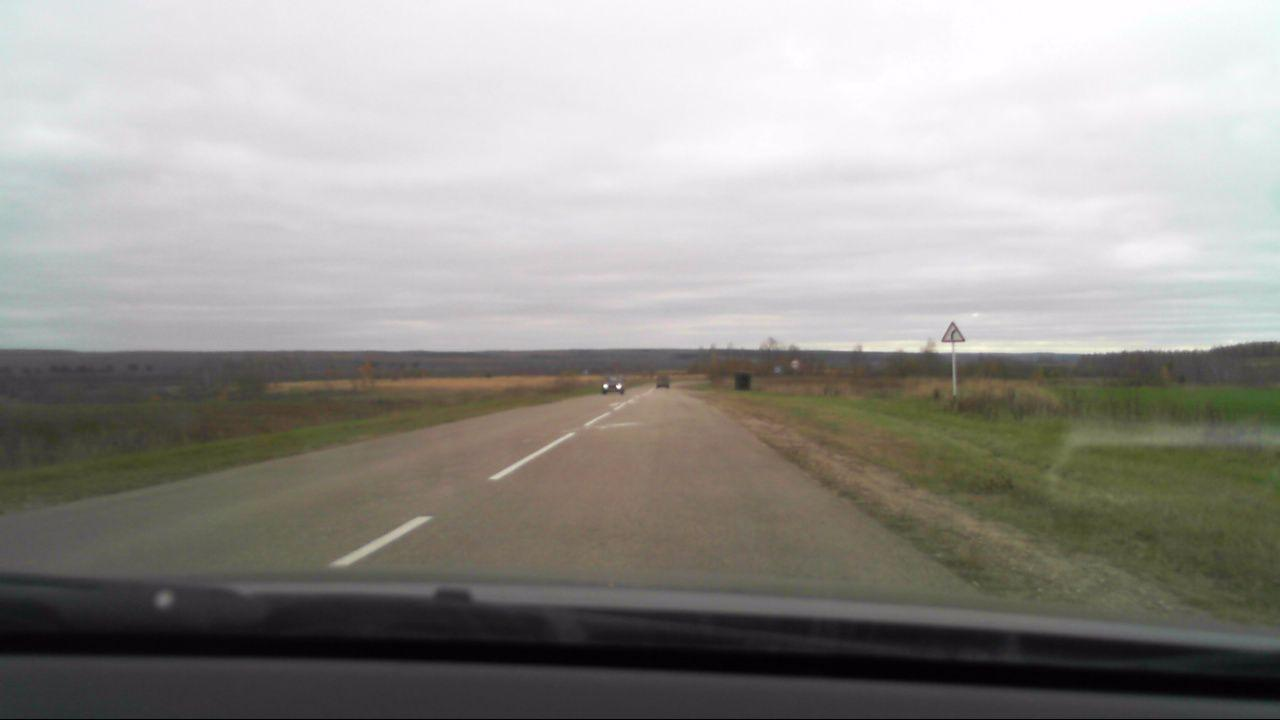1_11_1: (940, 321, 965, 341)
